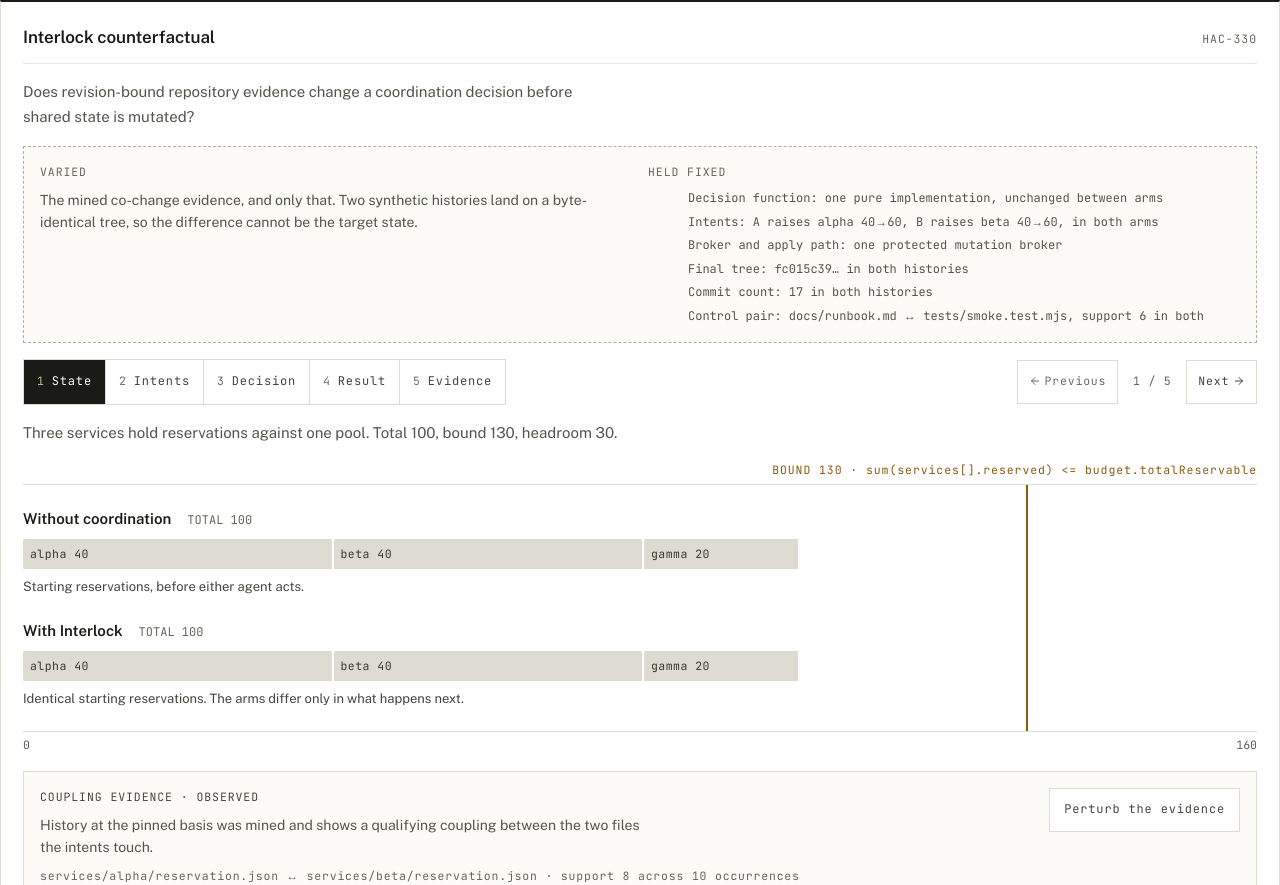
Scenario: InterlockCounterfactual › flips the decision and the outcome when the evidence is perturbed
The image size is (1280, 885).
Click the button "4 Result": (354, 382) [309,360,399,404]
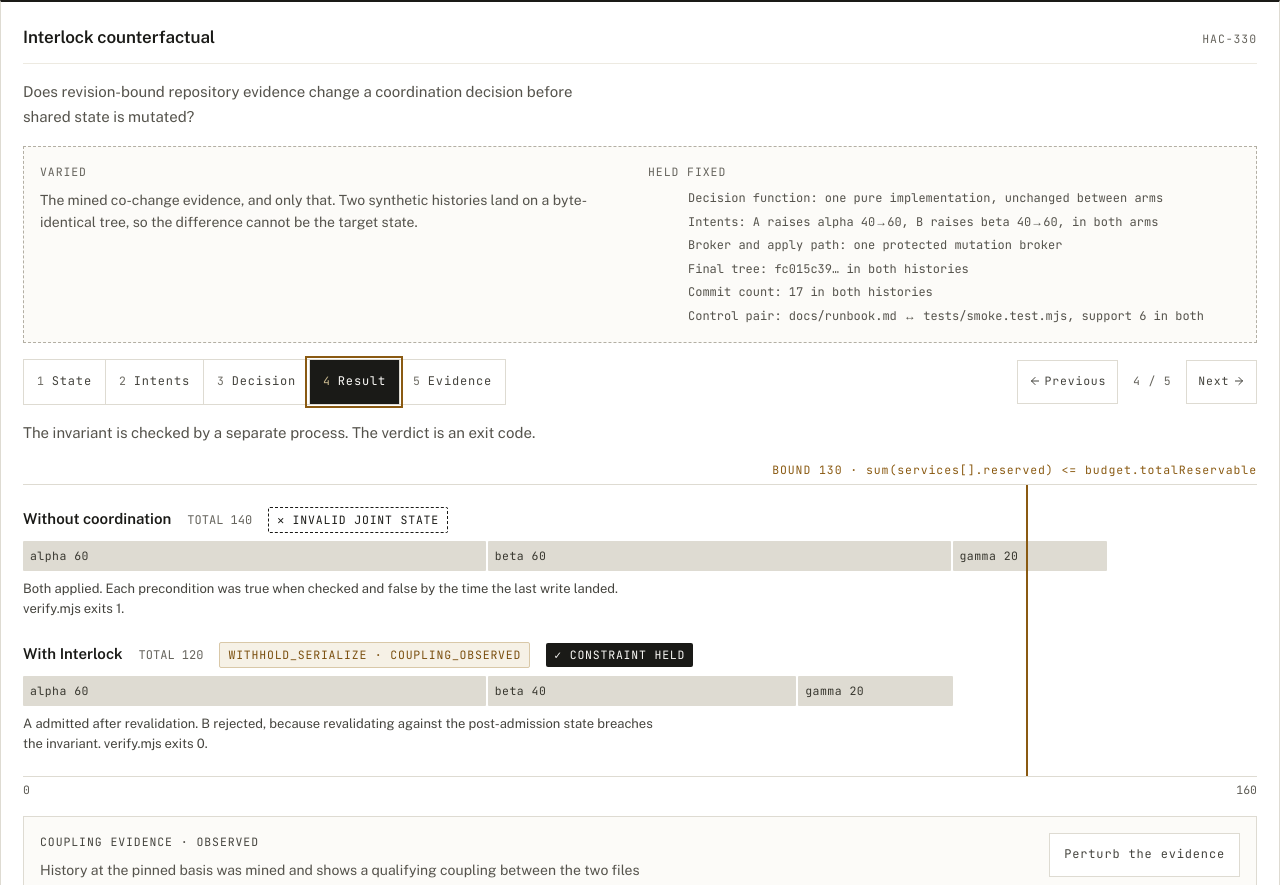
Expected: the text "CONSTRAINT HELD" is shown, [570,646,685,662]
Click the button "Perturb the evidence": (1145, 855) [1049,833,1240,877]
(page scrolled)
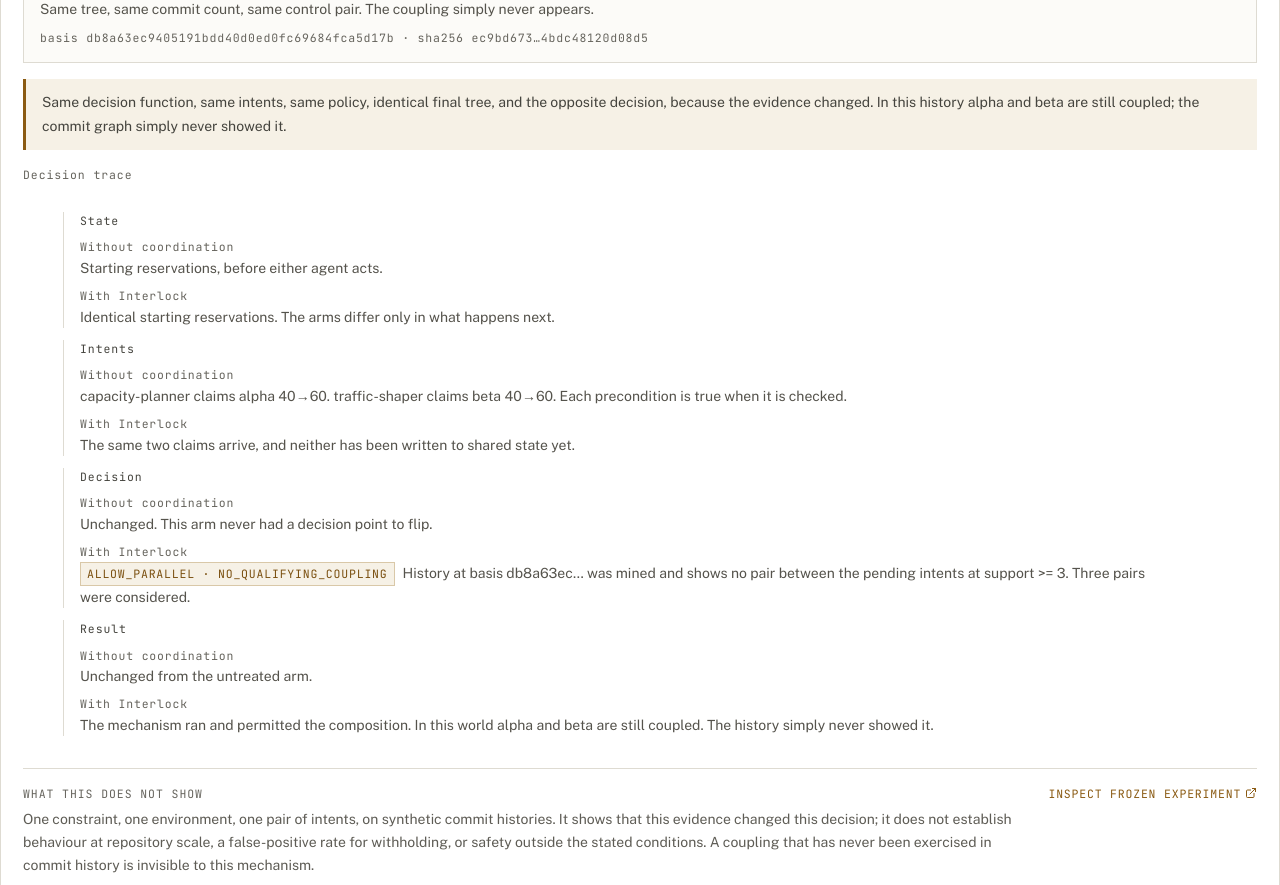
Expected: the text "ALLOW_PARALLEL · NO_QUALIFYING_COUPLING" is shown, [80,562,394,586]
Expected: the text "CONSTRAINT HELD" is gone
